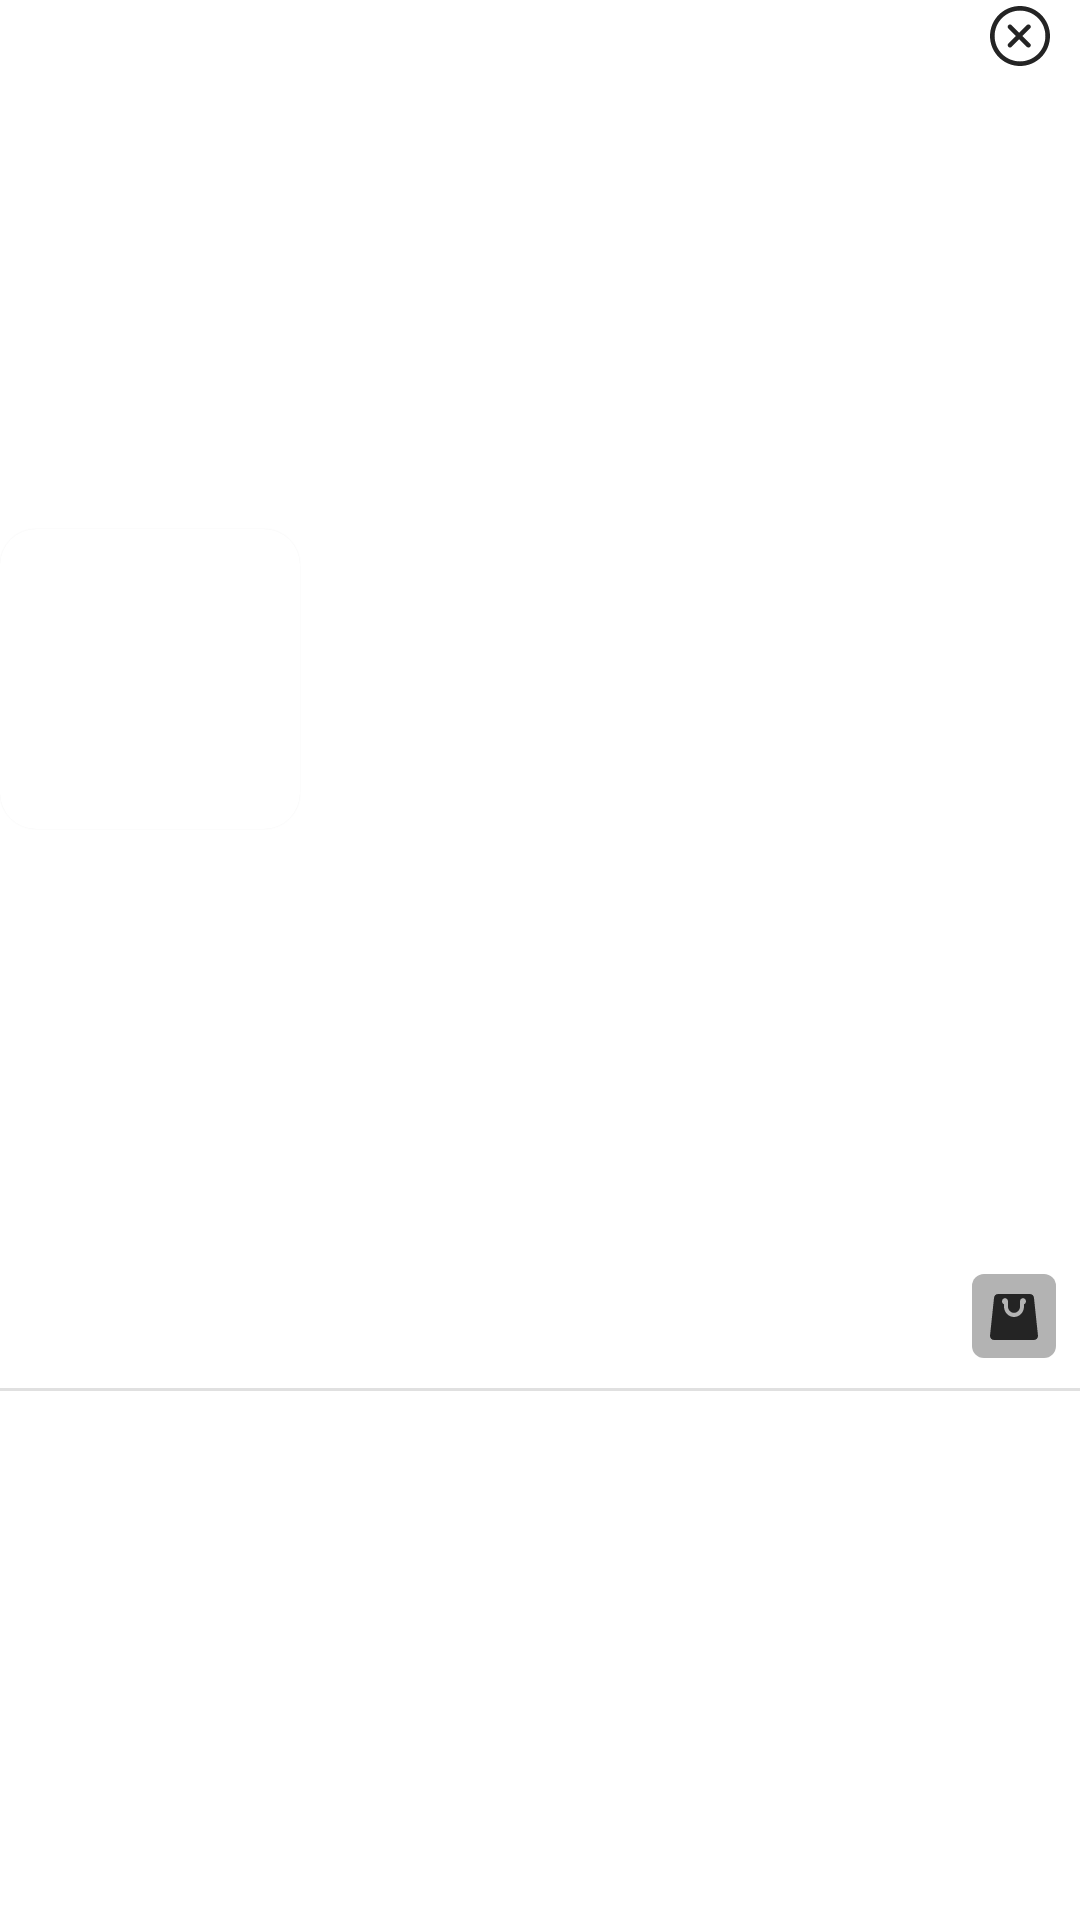

Icon bounding boxes for this 1080*1920 phone screenshot, format (x1, y1, x2, y2):
Bag: (972, 1274, 1056, 1358)
cancel: (990, 6, 1050, 66)
